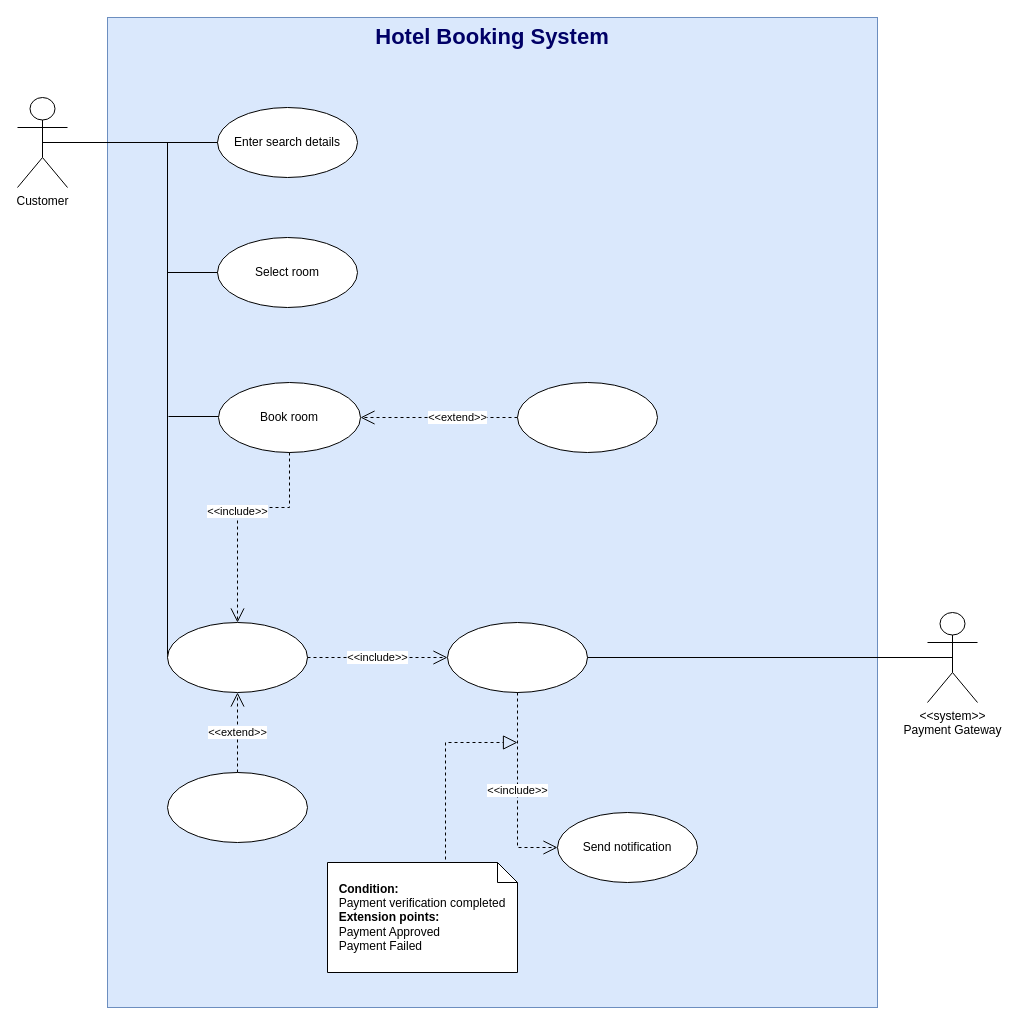
Some shapes in this 1018 by 1025 pixel diagram are drawn without their labels. Each missing label, with the centre of its shape:
"Cancel booking" goes at (x=587, y=417).
"Cancel payment" goes at (x=237, y=807).
"Process Payment" goes at (x=237, y=657).
"Verify payment" goes at (x=517, y=657).
